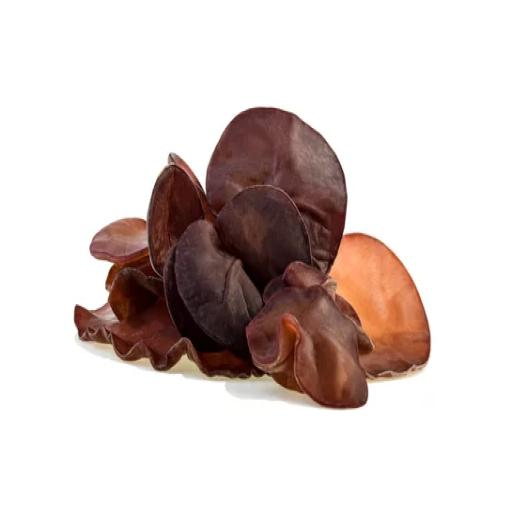Wood Ear Mushroom: (68, 93, 430, 409)
